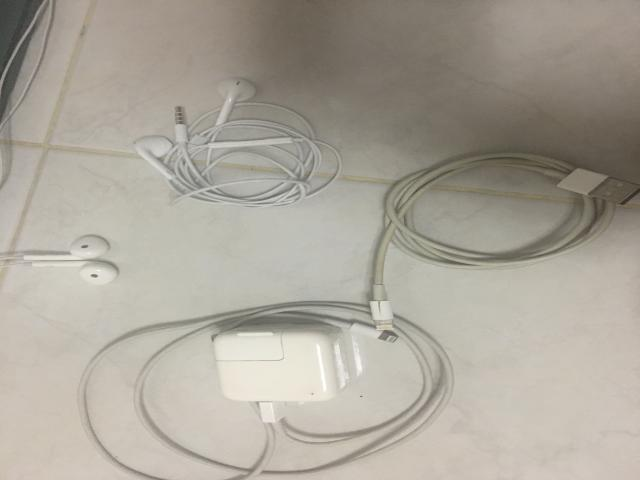wire: (78, 301, 453, 480), (369, 153, 640, 329), (135, 78, 341, 207), (0, 235, 118, 285)
